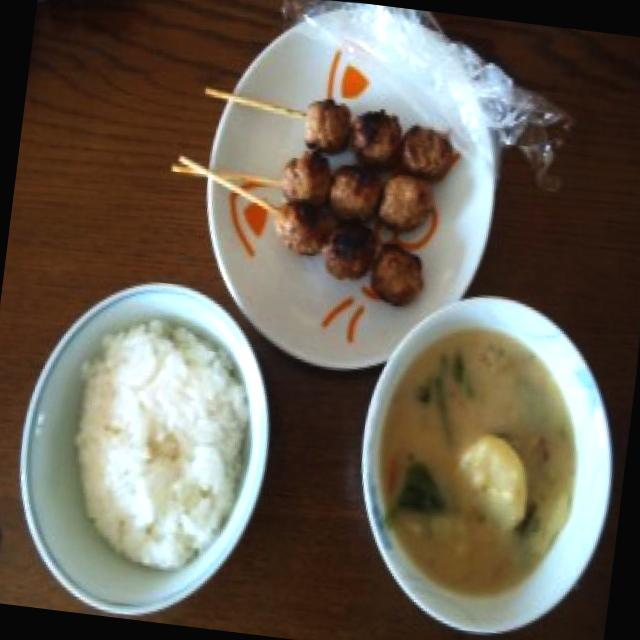Rice: (49, 306, 268, 576)
